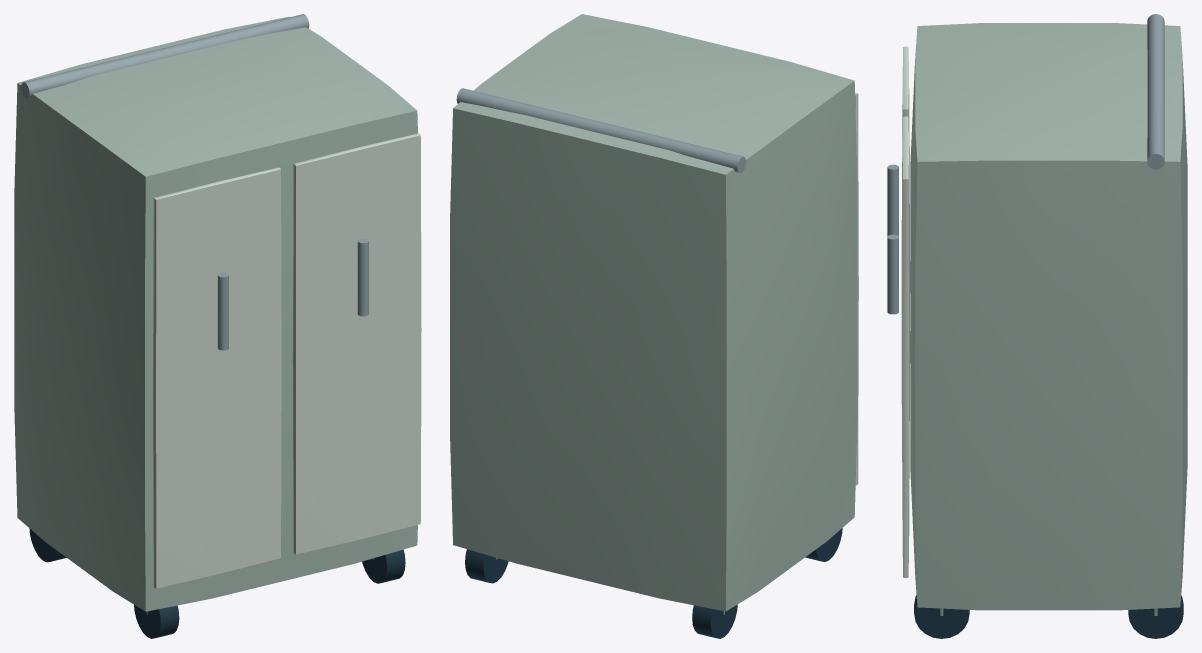
The model's file is linen-cart.glb.
The picture shows the model from 3 angles, left to right: view 1: azimuth 30°, elevation 25°; view 2: azimuth 150°, elevation 25°; view 3: azimuth 270°, elevation 25°; orthographic projection. The views are drawn at different scales.
Visible parts, largest first — view 1: linen-cart; view 2: linen-cart; view 3: linen-cart.
Part boxes in pixels (x1=…): linen-cart: x1=14, y1=14, x2=421, y2=638; linen-cart: x1=450, y1=14, x2=858, y2=638; linen-cart: x1=887, y1=14, x2=1187, y2=638.
Bounding box in the file's own units: 0.69 × 1.12 × 0.617.
Materials: 14 (14 with a texture image).
